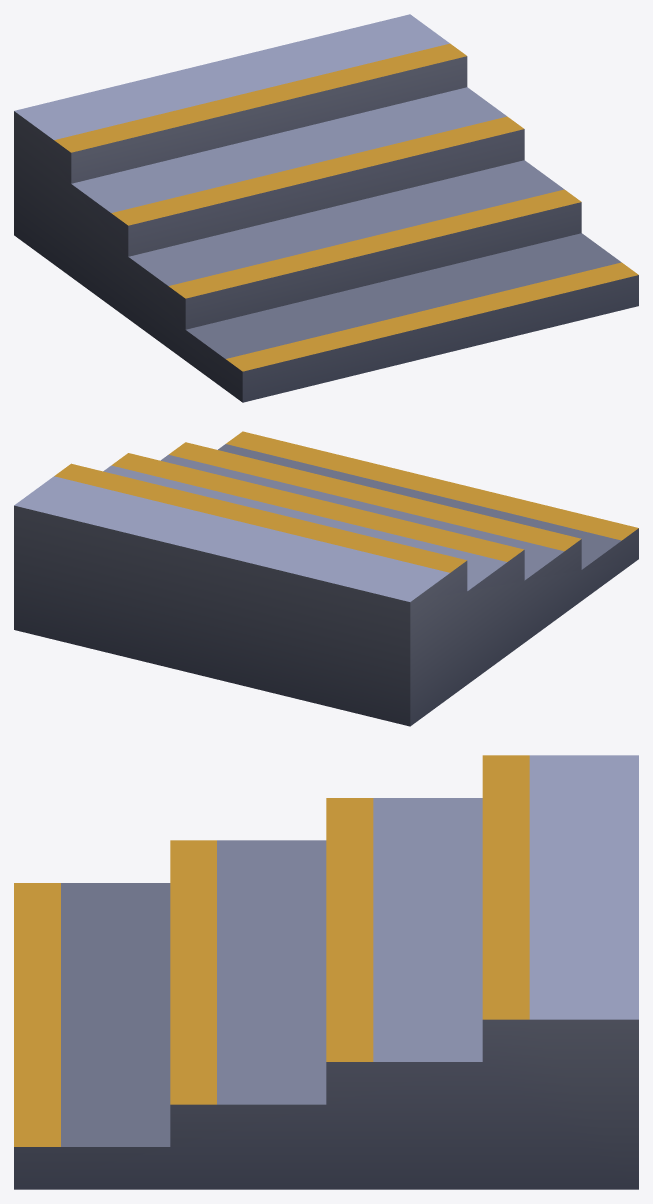
Rendered from stairs.glb.
The picture shows the model from 3 angles, top to bottom: view 1: azimuth 30°, elevation 25°; view 2: azimuth 150°, elevation 25°; view 3: azimuth 270°, elevation 25°; orthographic projection. The views are drawn at different scales.
Visible parts, largest first — view 1: stairs; view 2: stairs; view 3: stairs.
Boxes of the visible parts, x1,y1,x2,y2 form: stairs: (14, 14, 638, 402); stairs: (14, 431, 638, 726); stairs: (14, 755, 638, 1189).
Size of the model in its own units: 1 by 0.3 by 1.
